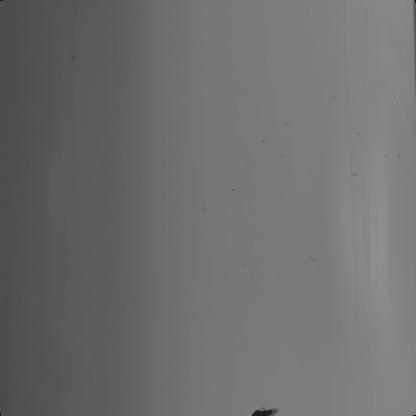kongdong: (231, 400, 289, 416)
